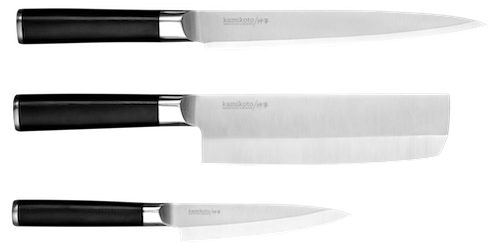knife: (15, 7, 486, 49), (10, 198, 352, 237)
